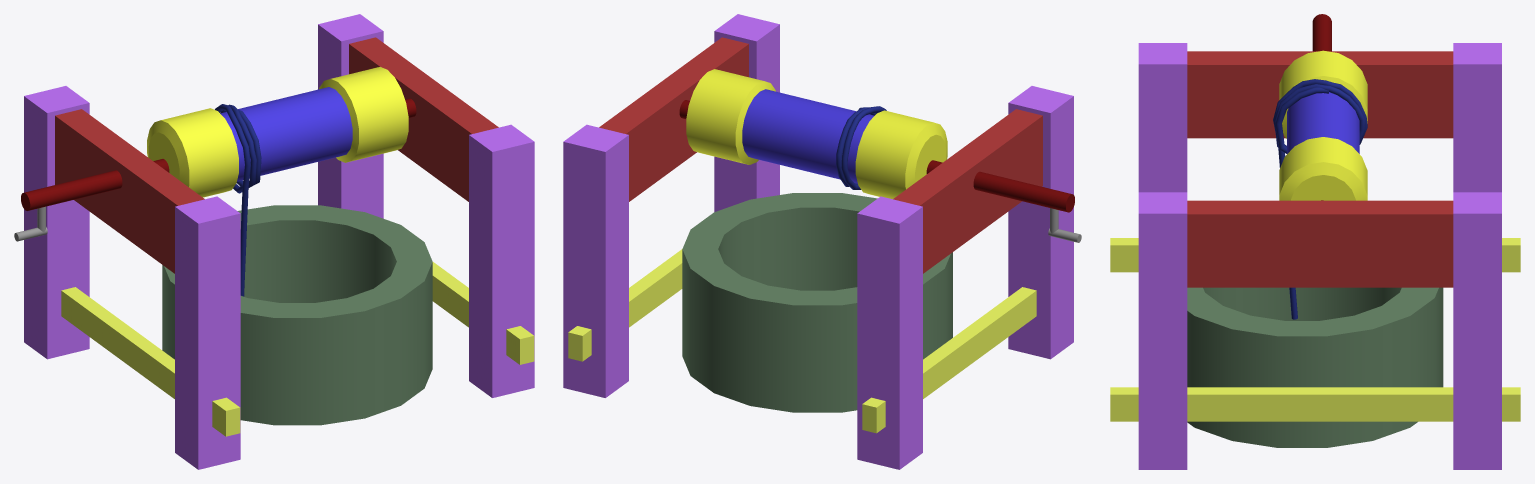
The picture shows the model from 3 angles, left to right: view 1: azimuth 30°, elevation 25°; view 2: azimuth 150°, elevation 25°; view 3: azimuth 270°, elevation 25°; orthographic projection. The views are drawn at different scales.
Parts seen in each view (by area): view 1: Tube001, Box006, Box002, Box005, Box007, Box003, Cylinder007, Box001, Cylinder006, Box008, Cylinder004, Box004 (+2 smaller); view 2: Tube001, Box001, Box005, Box006, Box007, Box003, Cylinder007, Cylinder006, Box002, Box008, Cylinder004, Box004 (+2 smaller); view 3: Tube001, Box003, Box007, Box002, Box001, Box004, Box006, Box005, Cylinder004, Cylinder007, Cylinder006, Loft001 (+2 smaller).
Part boxes in pixels (box(x1,y1,x2,y2)): Tube001: box(162, 205, 432, 425); Box006: box(175, 196, 240, 469); Box002: box(469, 124, 534, 397); Box005: box(24, 86, 89, 359); Box007: box(55, 109, 204, 273); Box003: box(349, 37, 498, 201); Cylinder007: box(220, 87, 352, 181); Box001: box(318, 14, 383, 218); Cylinder006: box(147, 108, 238, 197); Box008: box(61, 287, 240, 436); Cylinder004: box(319, 67, 408, 162); Box004: box(432, 262, 534, 364); Tube001: box(682, 193, 952, 412); Box001: box(563, 124, 628, 397); Box005: box(857, 196, 922, 469); Box006: box(1008, 86, 1073, 359); Box007: box(893, 109, 1042, 273); Box003: box(599, 37, 748, 201); Cylinder007: box(742, 89, 874, 183); Cylinder006: box(855, 110, 947, 199); Box002: box(714, 14, 779, 211); Box008: box(862, 287, 1036, 433); Cylinder004: box(686, 69, 775, 164); Box004: box(568, 249, 682, 361); Tube001: box(1187, 287, 1443, 447); Box003: box(1187, 200, 1453, 287); Box007: box(1187, 51, 1453, 138); Box002: box(1138, 192, 1187, 469); Box001: box(1453, 192, 1501, 469); Box004: box(1110, 387, 1520, 421); Box006: box(1138, 43, 1187, 192); Box005: box(1453, 43, 1501, 192); Cylinder004: box(1279, 137, 1367, 200); Cylinder007: box(1287, 92, 1359, 153); Cylinder006: box(1279, 50, 1367, 138); Loft001: box(1273, 79, 1367, 319).
Bounding box in the file's own units: 81.88 × 48.87 × 65.01.
